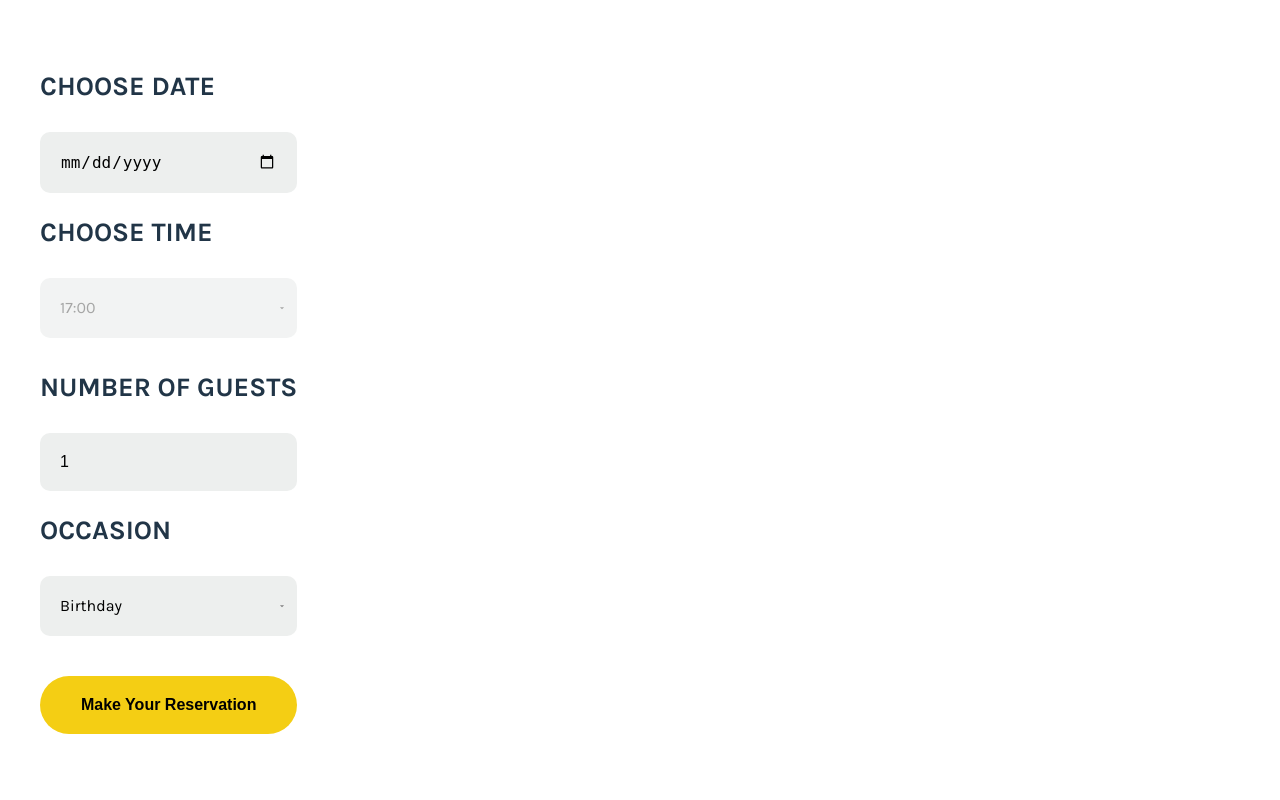
Test: BookingForm Component › shows the confirmation modal on successful form submission
Step 1. Type "2023-09-01" into the date field labelled "Choose date" → (169, 162), box 40,132 -> 297,192
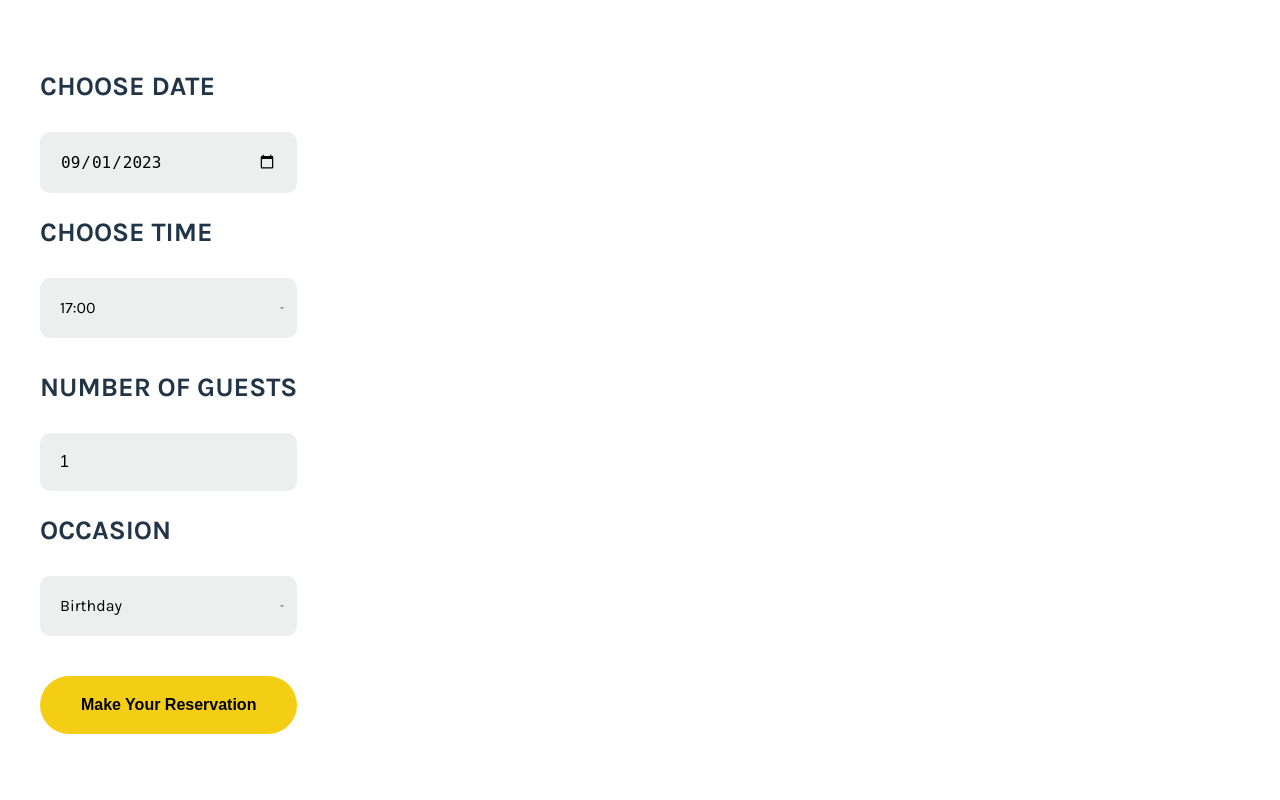
Step 2. Select "18:00" in the dropdown labelled "Choose time" → (169, 308), box 40,278 -> 297,338
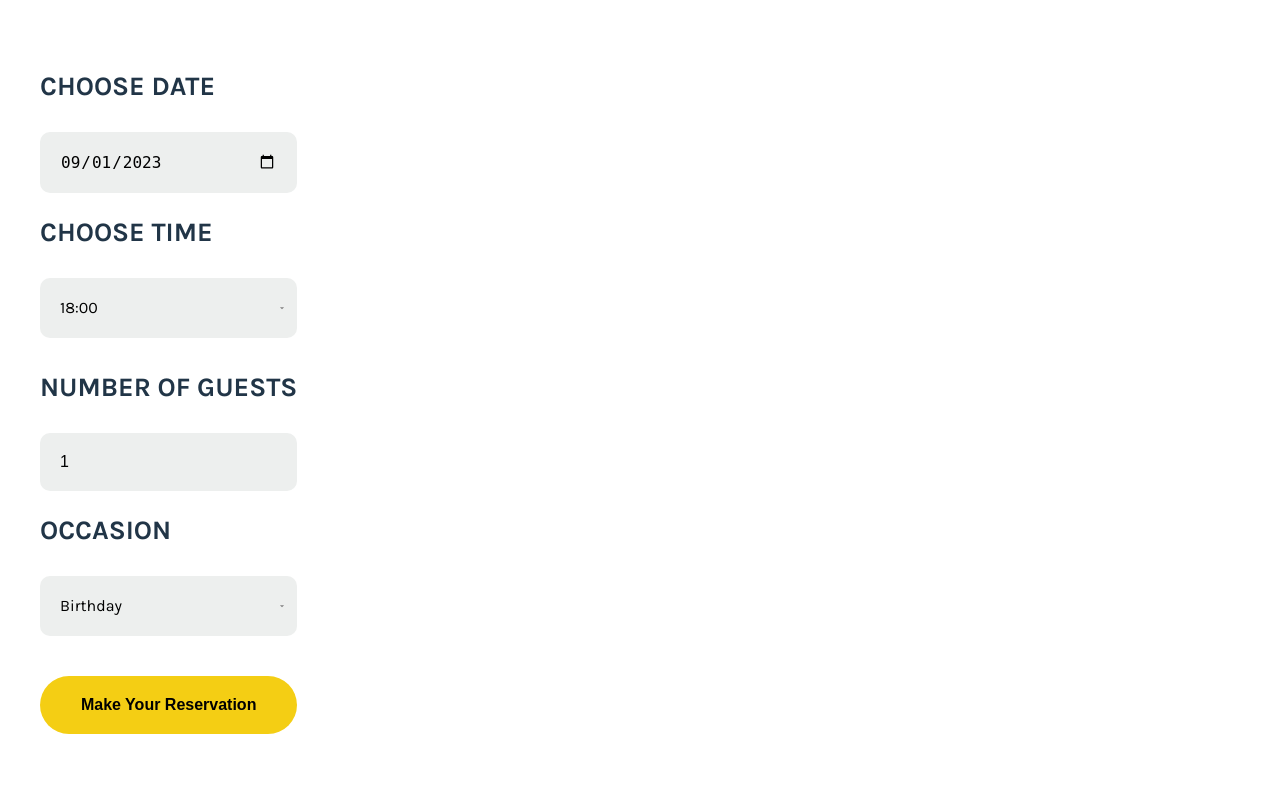
Step 3. Replace the text in the number field labelled "Number of guests" with "3" → (169, 462), box 40,432 -> 297,490
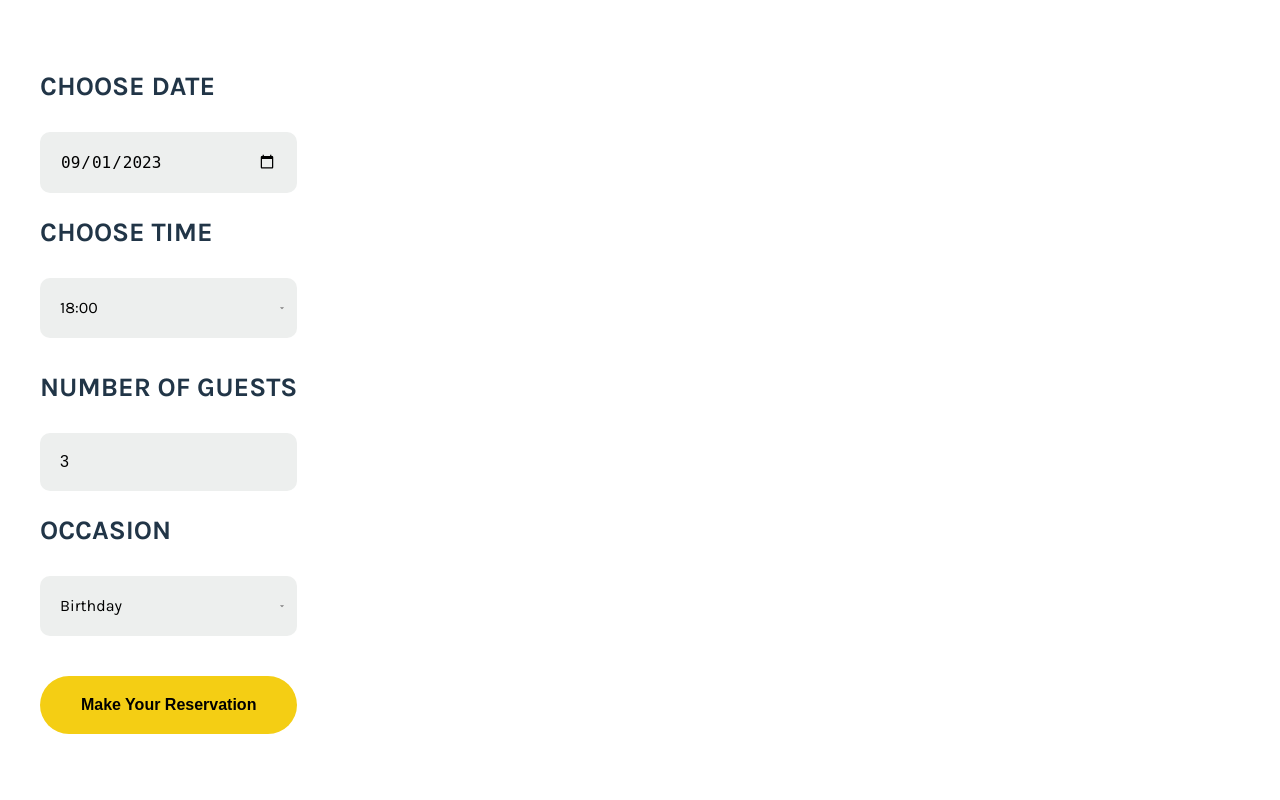
Step 4. Select "Anniversary" in the dropdown labelled "Occasion" → (169, 606), box 40,576 -> 297,636
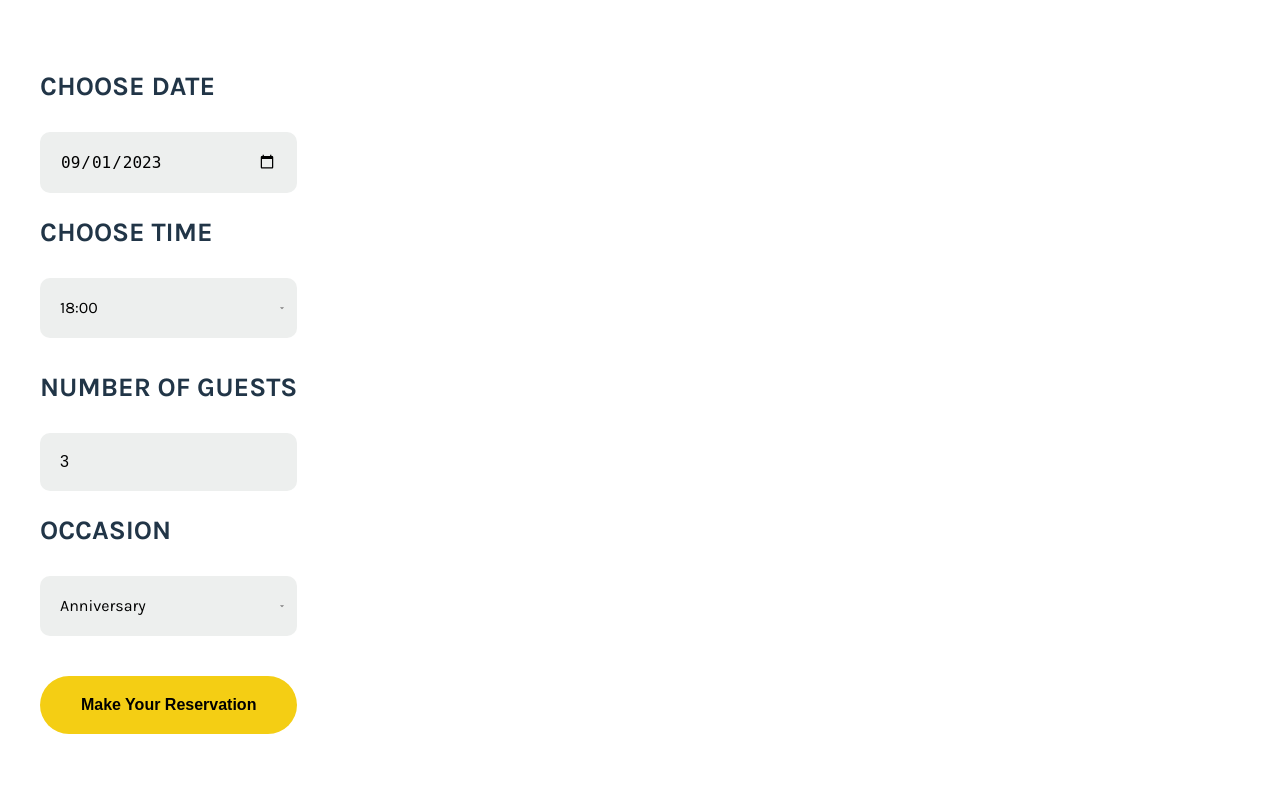
Step 5. Click the button "Make Your Reservation" → (169, 704), box 40,676 -> 297,734
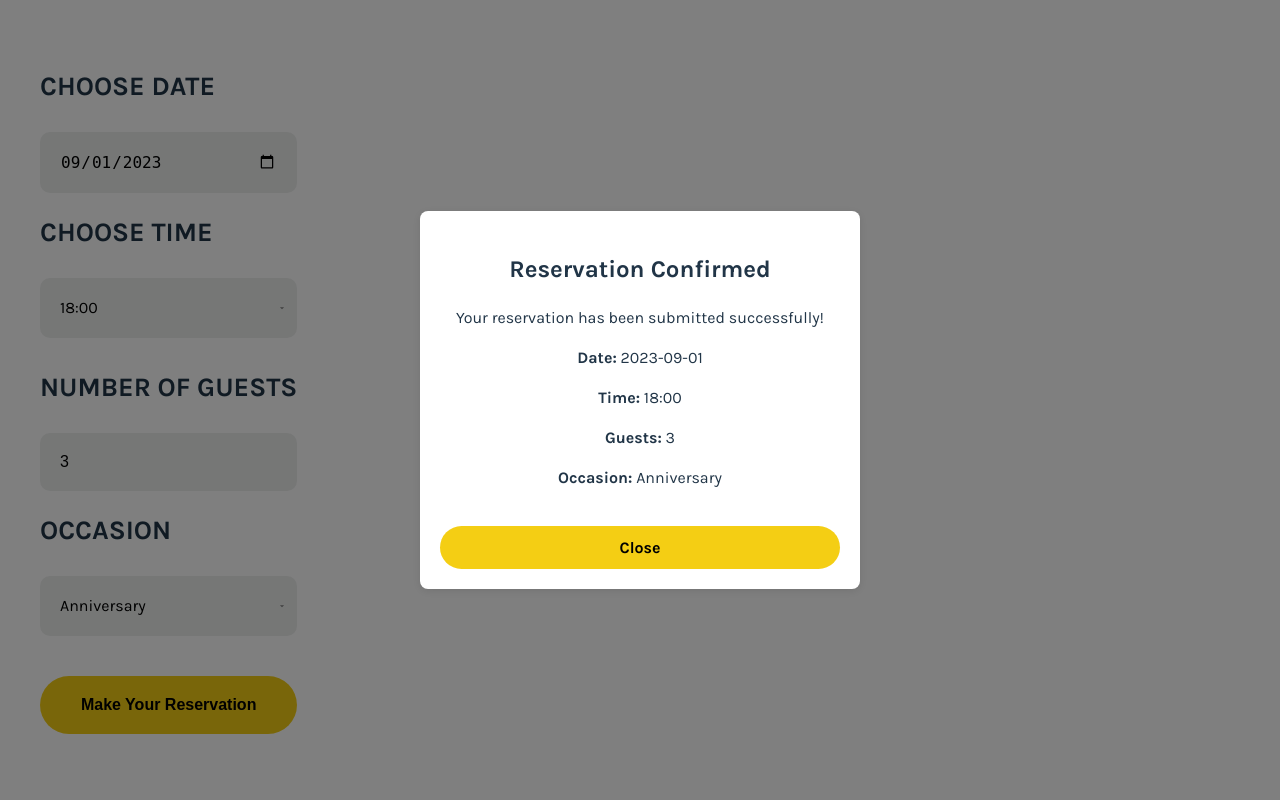
Now the heading "Reservation Confirmed" is shown, box 509,254 -> 771,282
